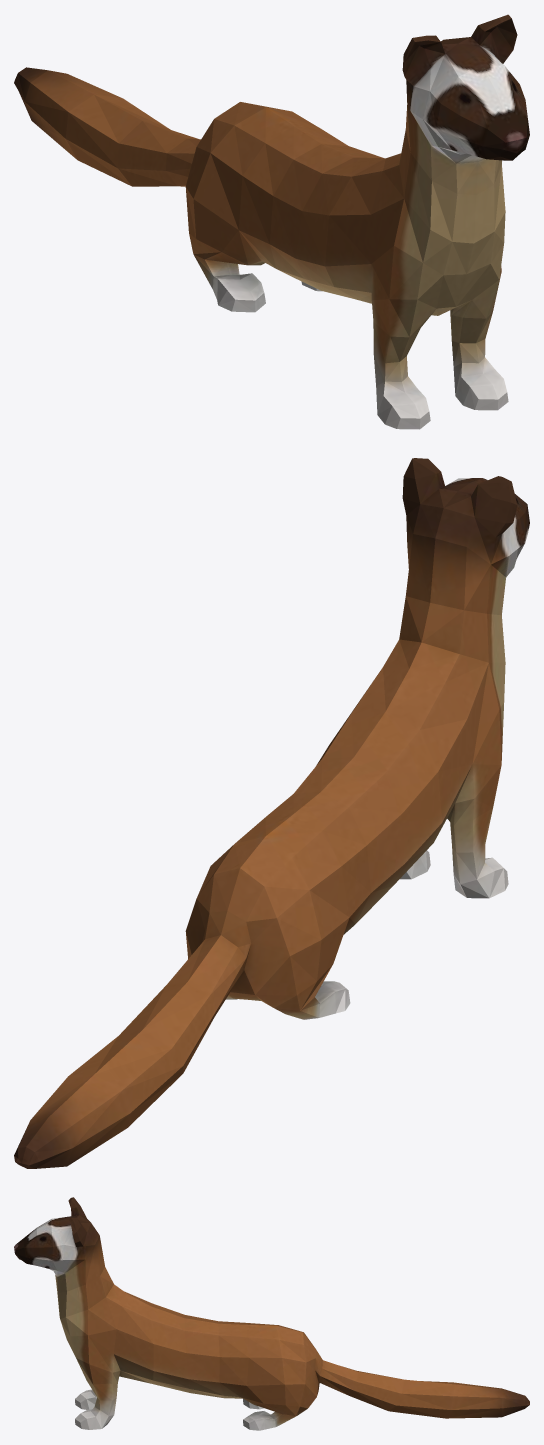
The model's file is marten_weasel.glb.
3 views of the same model, one above another, from view 1: azimuth 30°, elevation 25°; view 2: azimuth 150°, elevation 25°; view 3: azimuth 270°, elevation 25° (orthographic). The views are drawn at different scales.
Visible parts, largest first — view 1: LongTailedWeasel_Mesh; view 2: LongTailedWeasel_Mesh; view 3: LongTailedWeasel_Mesh.
Boxes of the visible parts, x1,y1,x2,y2 form: LongTailedWeasel_Mesh: (14,14,529,429); LongTailedWeasel_Mesh: (14,458,529,1168); LongTailedWeasel_Mesh: (14,1197,529,1430).
Bounding box in the file's own units: 0.1044 × 0.3086 × 0.7.
1 material, 1 textured.
